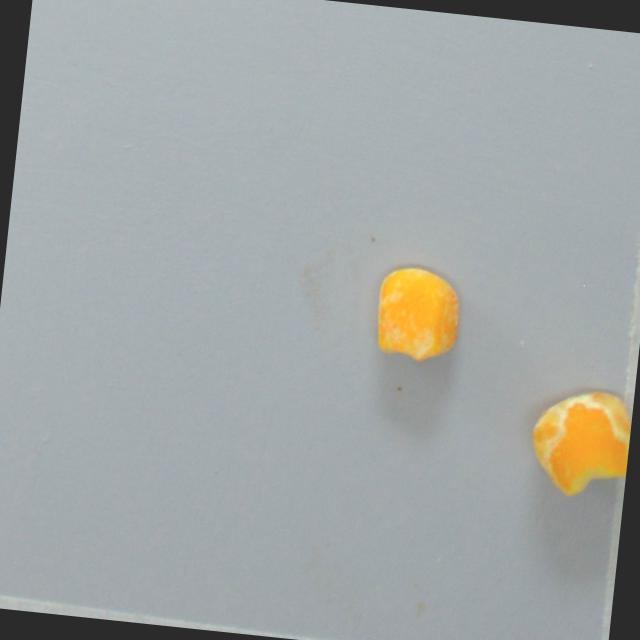dañado: (515, 381, 633, 506), (369, 261, 466, 367)
